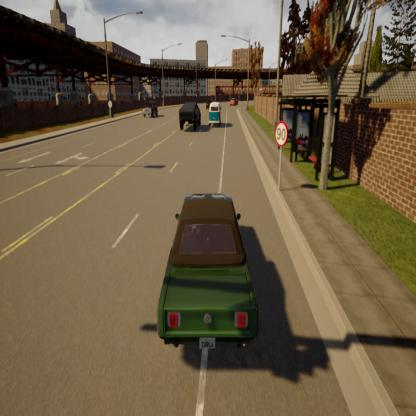Cars: (148, 160, 276, 380), (173, 95, 205, 132), (139, 100, 162, 124), (207, 100, 224, 128), (228, 95, 241, 110)
